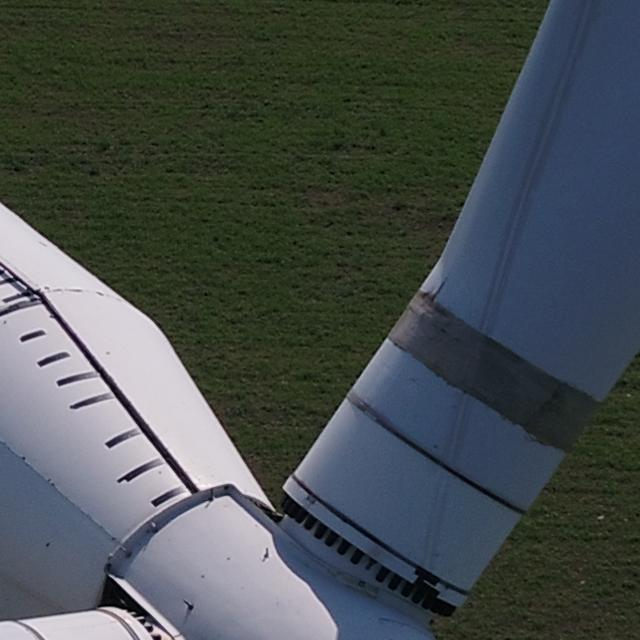damage: (420, 277, 451, 307), (65, 286, 84, 295), (94, 287, 105, 298), (52, 286, 61, 292)
